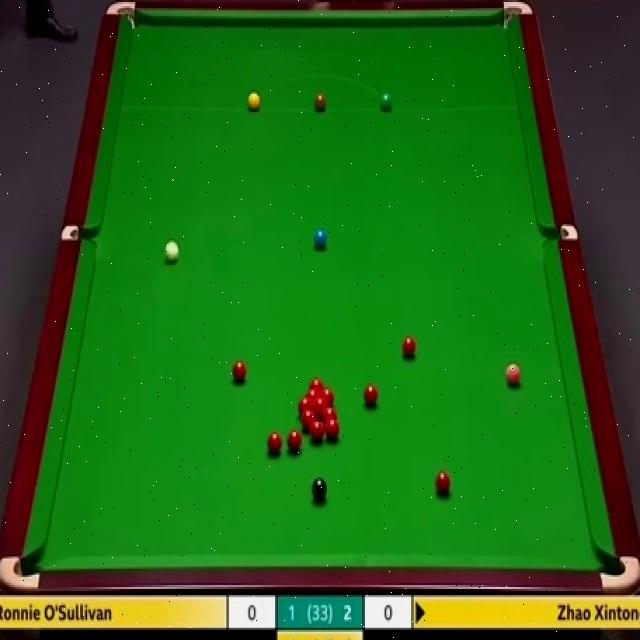black-ball: (311, 478, 328, 502)
blue-ball: (313, 228, 328, 250)
brown-ball: (314, 93, 327, 112)
green-ball: (380, 92, 392, 111)
pink-ball: (504, 361, 522, 389)
red-ball: (399, 336, 417, 361), (433, 472, 450, 498), (362, 384, 378, 408), (268, 429, 284, 452), (325, 417, 340, 441), (310, 419, 325, 442), (232, 360, 246, 384), (287, 431, 301, 454), (300, 410, 316, 428), (319, 388, 335, 404), (321, 406, 337, 421), (313, 398, 328, 412), (308, 377, 325, 389), (298, 396, 312, 409), (305, 389, 322, 397)
white-ball: (164, 240, 179, 262)
yellow-ball: (247, 90, 260, 113)
